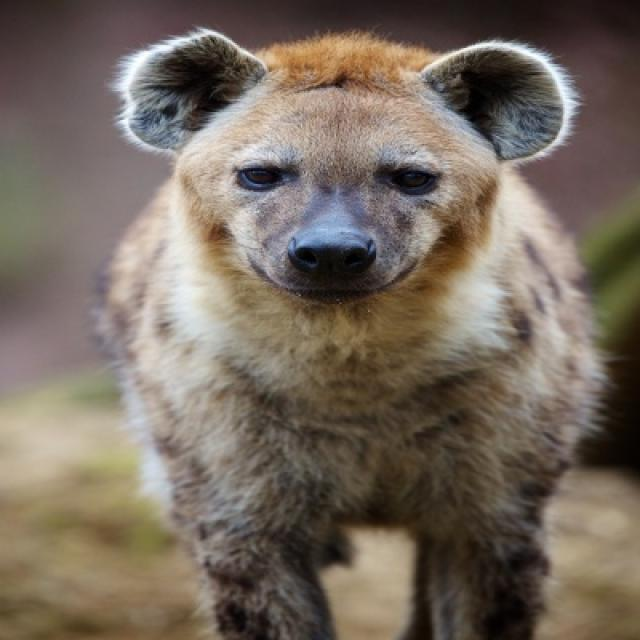hyena: (88, 27, 606, 638)
